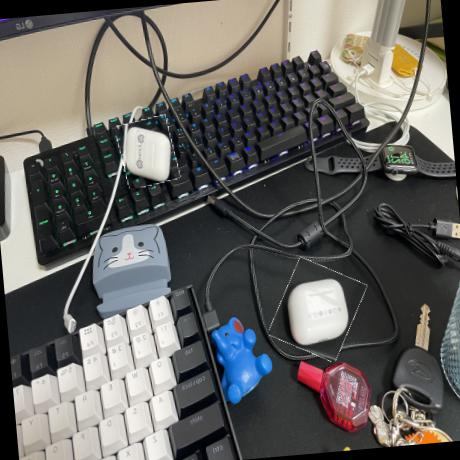airpod2: (116, 116, 178, 189)
airpod3: (270, 258, 366, 361)
